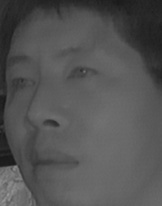eye: (64, 62, 99, 84), (5, 73, 36, 93)
mouth: (22, 145, 85, 180)
